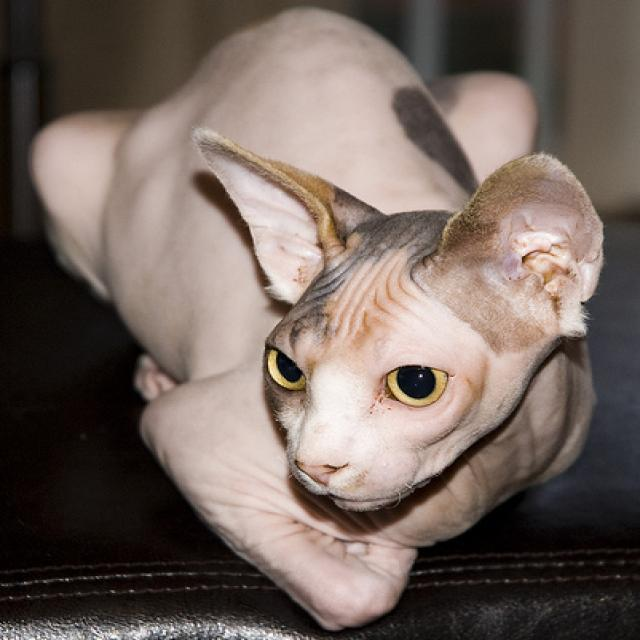Sphynx: (22, 0, 610, 636)
